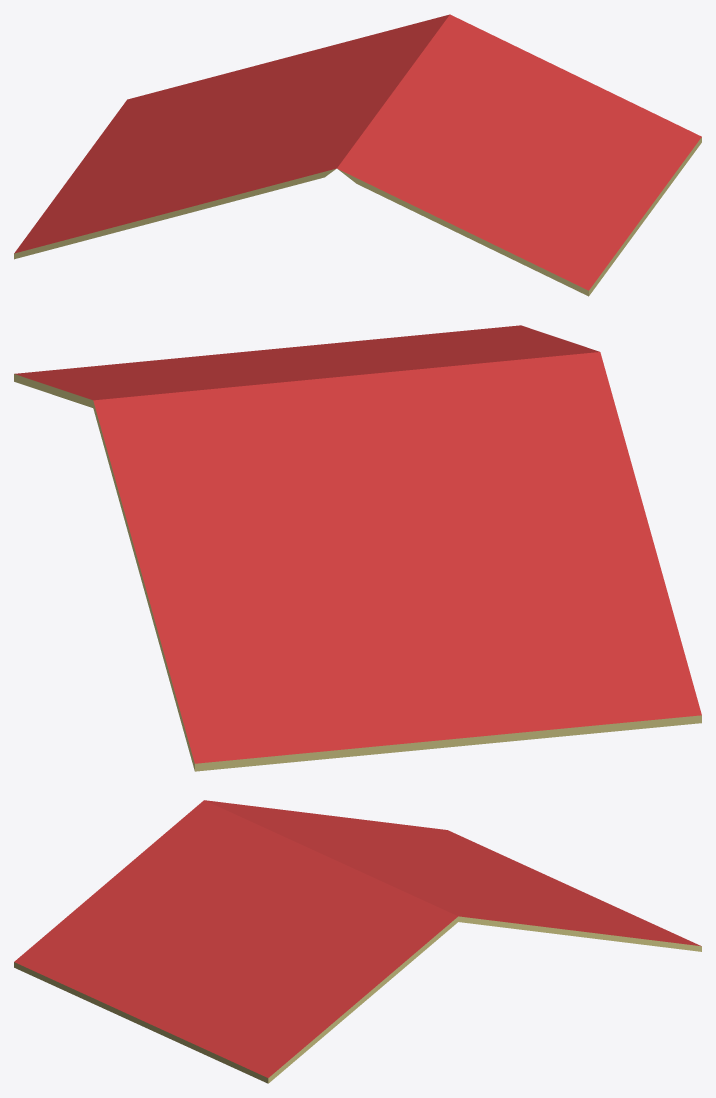
The picture shows the model from 3 angles, top to bottom: view 1: azimuth 30°, elevation 25°; view 2: azimuth 150°, elevation 25°; view 3: azimuth 270°, elevation 25°; orthographic projection. The views are drawn at different scales.
Size of the model in its own units: 10.84 by 11.03 by 2.31.
